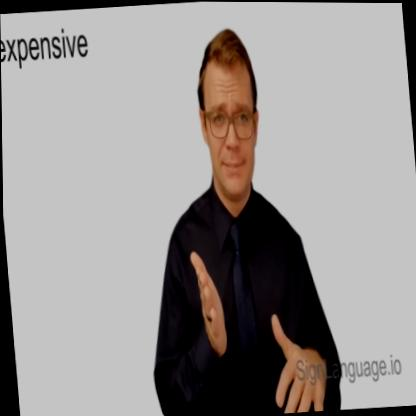Expensive: (188, 239, 327, 416)
